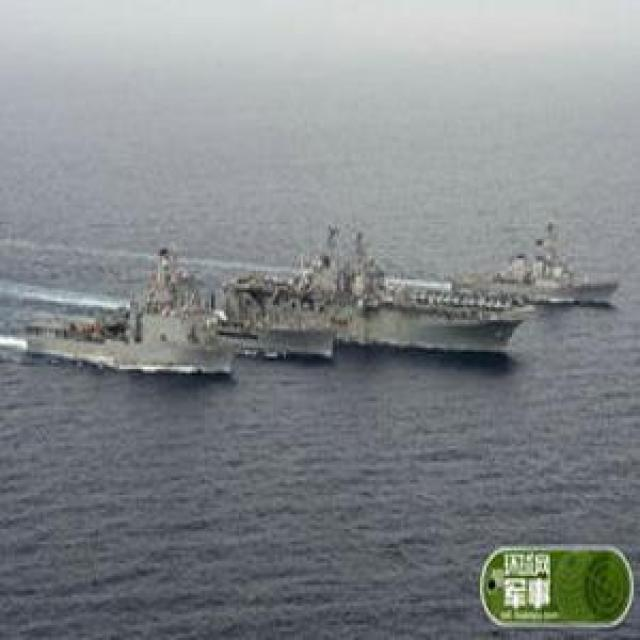navalvessels: (21, 247, 239, 380), (310, 224, 513, 354), (455, 222, 627, 310), (212, 264, 345, 364)
